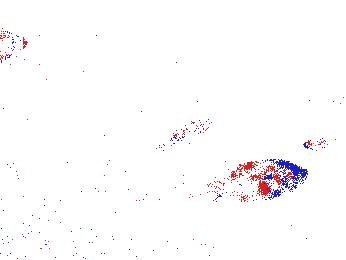X-ray fish: (216, 156, 309, 201)
red belly glassfish: (173, 114, 215, 141), (301, 136, 346, 152)
redtail glassfish: (1, 28, 26, 63)
